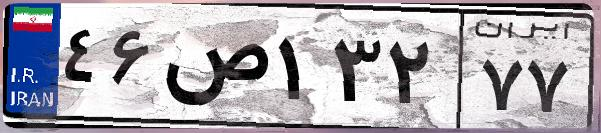1: (270, 28, 330, 110)
2: (385, 28, 445, 110)
3: (330, 28, 385, 110)
4: (57, 26, 110, 100)
6: (110, 28, 158, 98)
7: (475, 38, 525, 113), (525, 38, 570, 115)
ص: (158, 20, 270, 120)
